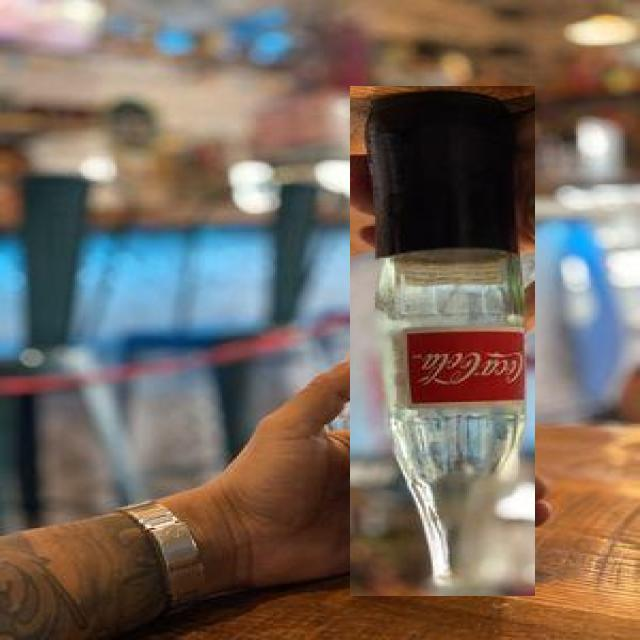coca-cola: (350, 86, 535, 596)
